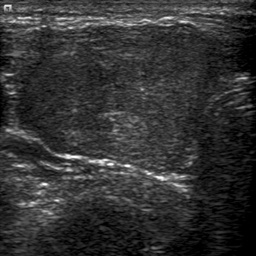mass: (22, 24, 210, 175)
